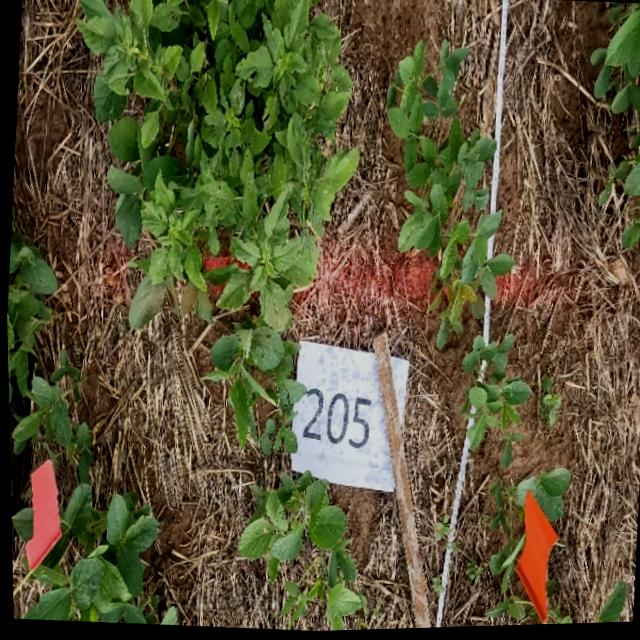caruru_weed: (78, 0, 357, 435)
soy_plant: (6, 234, 174, 625), (386, 45, 512, 349), (235, 473, 362, 633), (590, 5, 640, 251), (461, 338, 529, 469), (487, 471, 568, 536), (486, 542, 521, 593), (590, 587, 622, 627)
